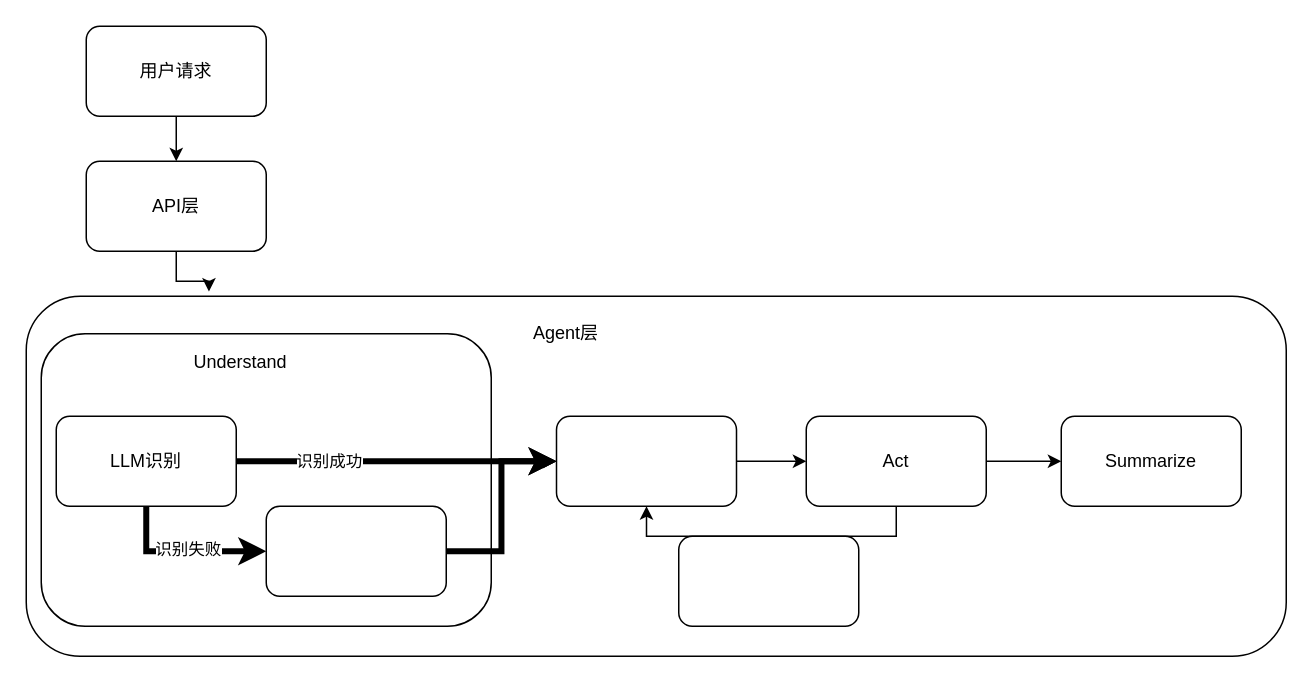
Image size: 1313x683. Some labels were removed from this diagram. The shapes that lost their labels are listed below. From the top down, each one's centre as x and y in pixels, then its label:
At point 645,460: "Plan".
At point 355,550: "硬编码识别".
At point 768,580: "Reflect".
